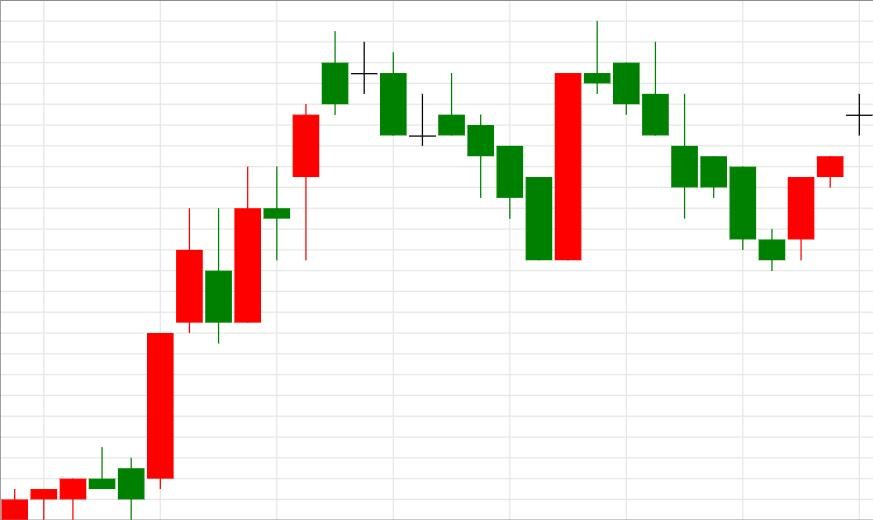bullish_engulfing_rise: (322, 29, 581, 260)
